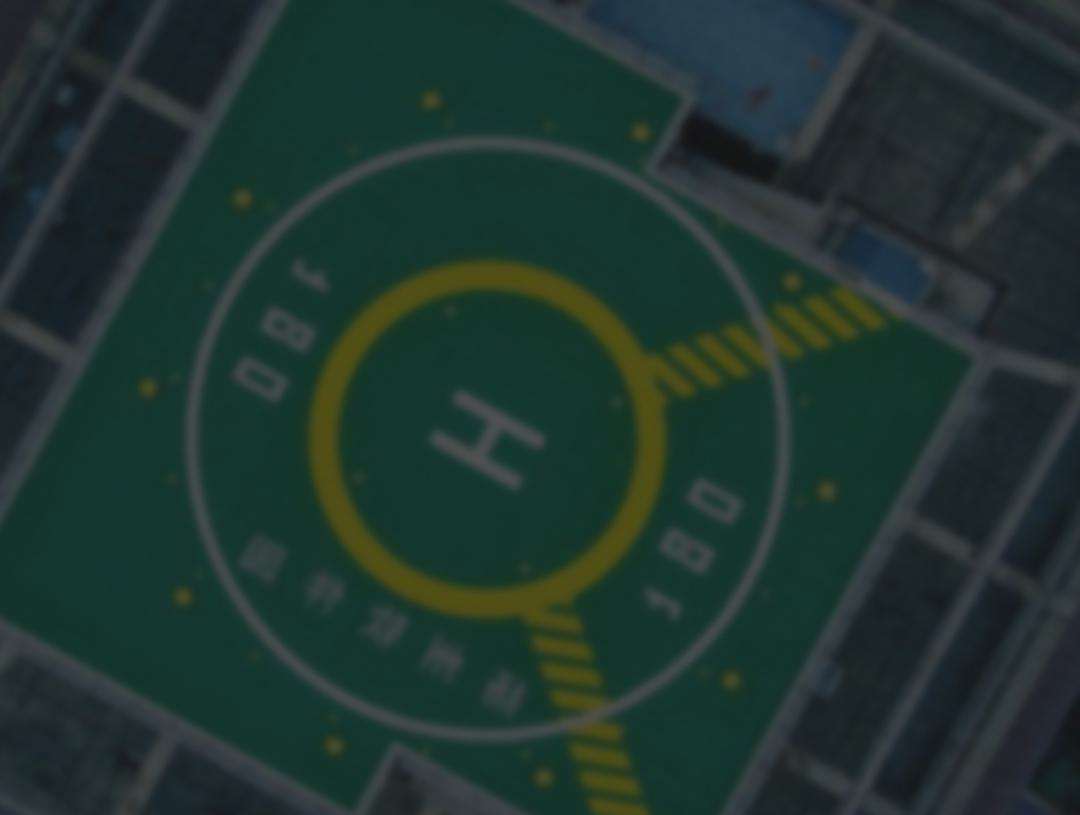Apron: (300, 240, 673, 619)
